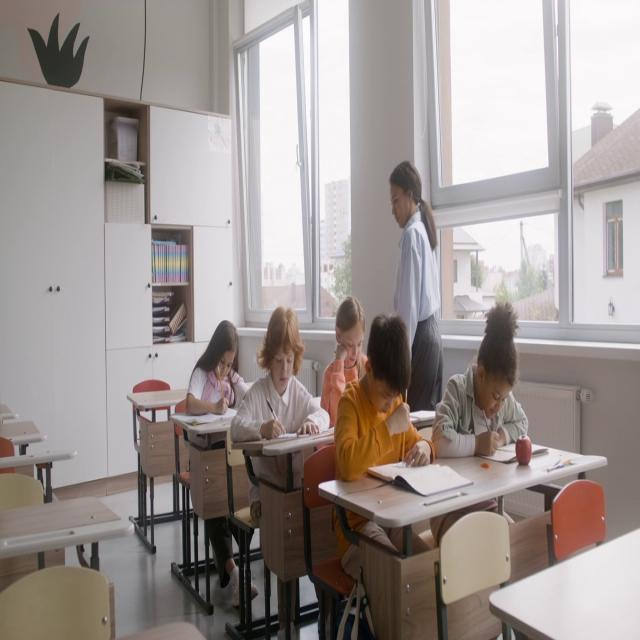reading: (315, 297, 363, 426)
writing: (339, 315, 453, 638), (186, 323, 258, 610), (233, 308, 326, 512), (433, 303, 528, 461)
